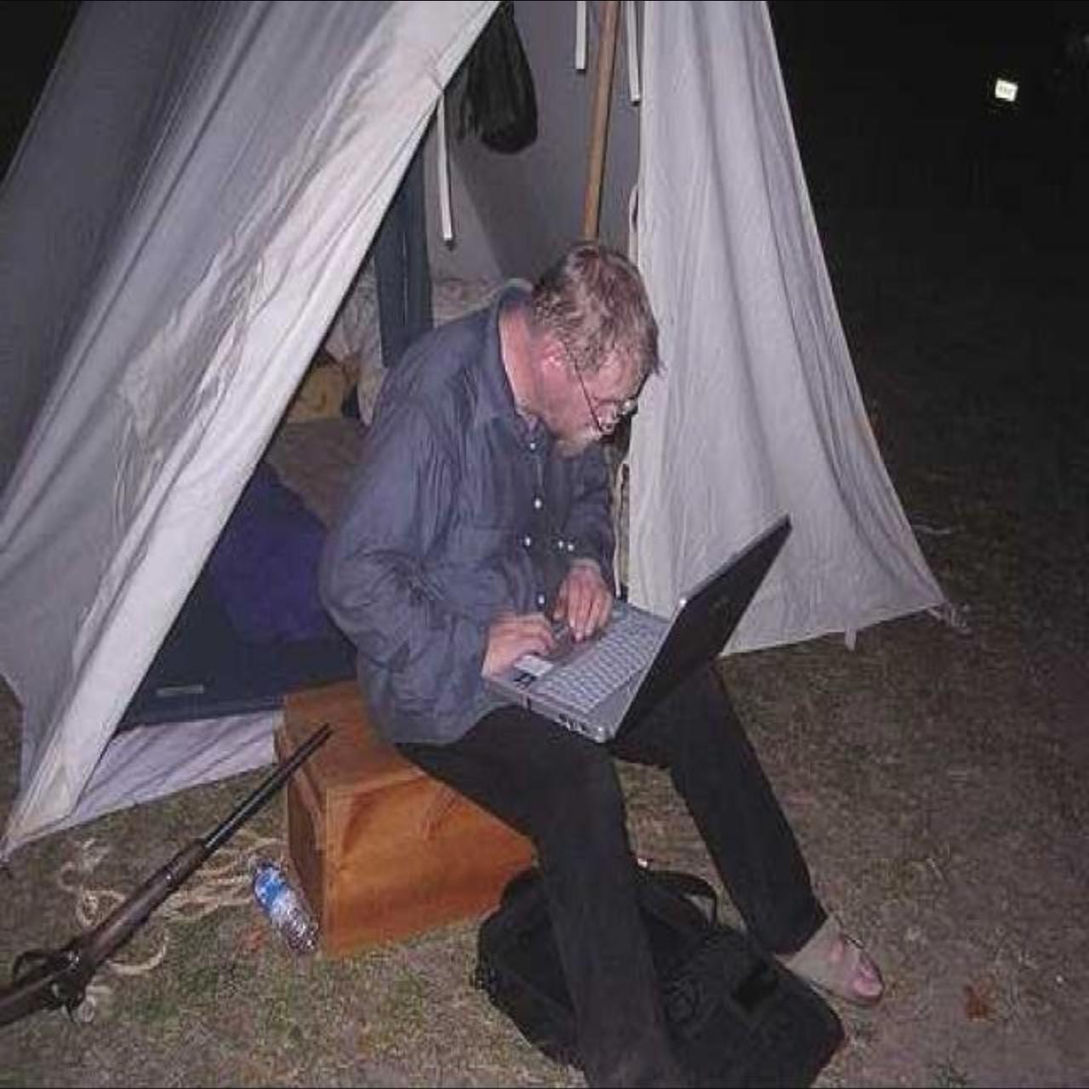laptop: (480, 522, 807, 784)
